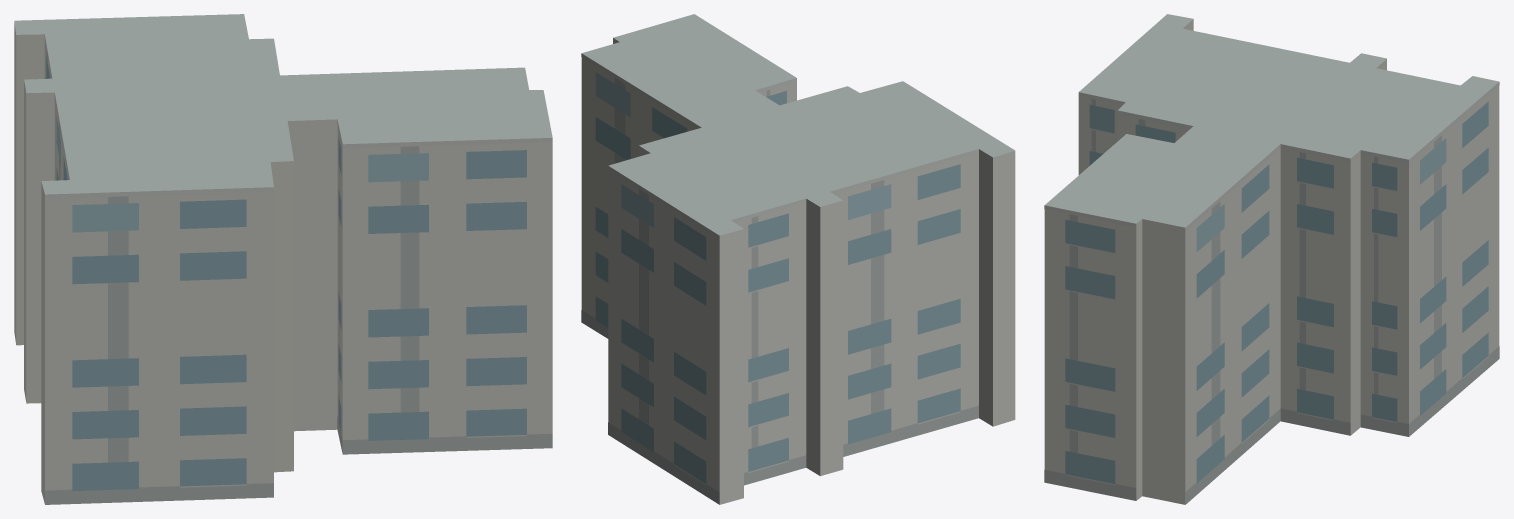
File: survey-upis-32635621.glb
3 views of the same model, side by side, from view 1: azimuth 30°, elevation 25°; view 2: azimuth 150°, elevation 25°; view 3: azimuth 270°, elevation 25° (orthographic). The views are drawn at different scales.
Parts seen in each view (by area): view 1: survey-upis-32635621.tmp; view 2: survey-upis-32635621.tmp; view 3: survey-upis-32635621.tmp.
Part boxes in pixels (left/top/right/bottom): survey-upis-32635621.tmp: left=14, top=14, right=552, bottom=504; survey-upis-32635621.tmp: left=581, top=14, right=1015, bottom=504; survey-upis-32635621.tmp: left=1044, top=14, right=1499, bottom=504.
Bounding box in the file's own units: 28.27 × 17.1 × 25.44.
